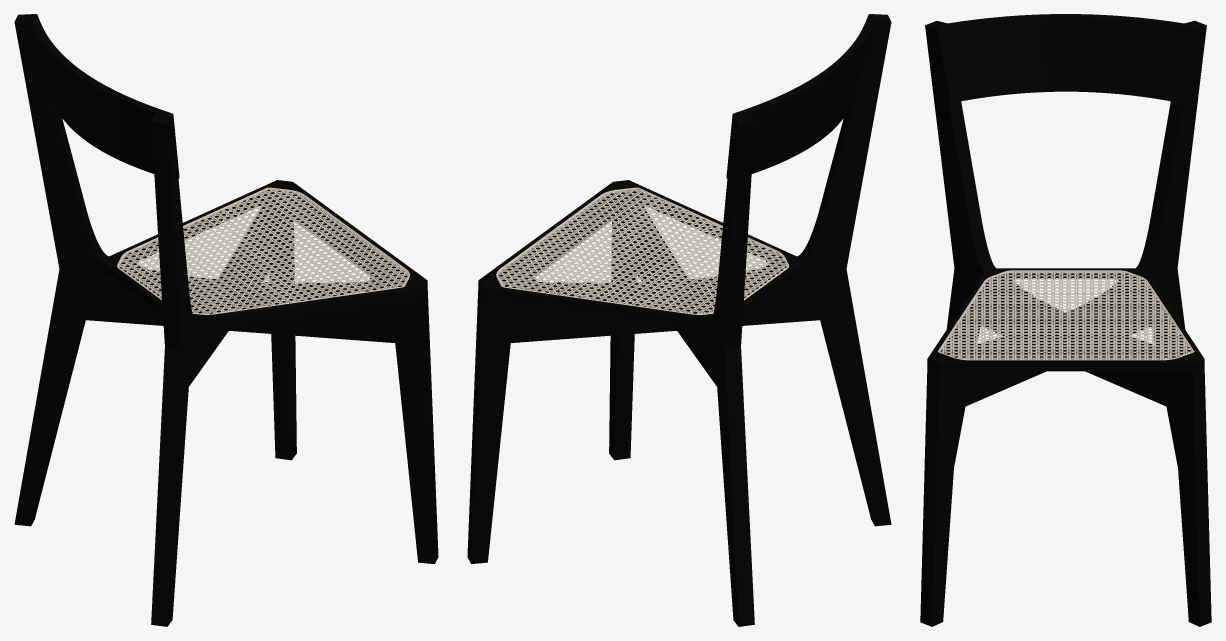
File: asset.gltf
3 renders of one model, left to right at view 1: azimuth 30°, elevation 25°; view 2: azimuth 150°, elevation 25°; view 3: azimuth 270°, elevation 25°, orthographic. The views are drawn at different scales.
Parts seen in each view (by area): view 1: GH_Obj (×5); view 2: GH_Obj (×5); view 3: GH_Obj (×7).
Boxes of the visible parts, <box> form: GH_Obj (×5): <box>14,14,438,626</box>; GH_Obj (×5): <box>467,14,891,626</box>; GH_Obj (×7): <box>920,14,1211,626</box>.
Bounding box in the file's own units: 497 × 814 × 450.
